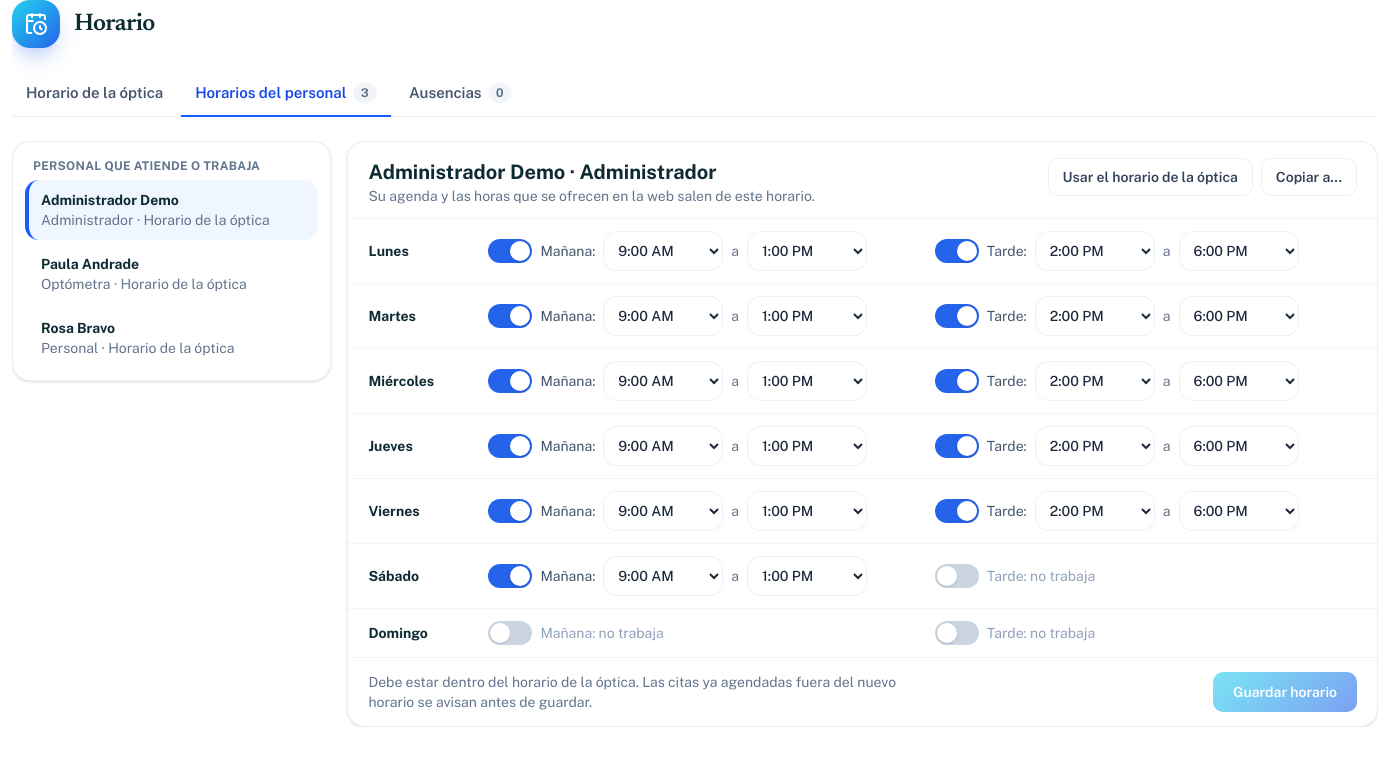
Scenario: Horario del administrador › Horarios del personal › guarda con la función de la base, confirma y le avisa a la agenda; «Usar el horario de la óptica» devuelve a quien lo tenía propio
Step 1. Click the text "Rosa Bravo" → coordinates (78, 328), box [41,320,115,336]
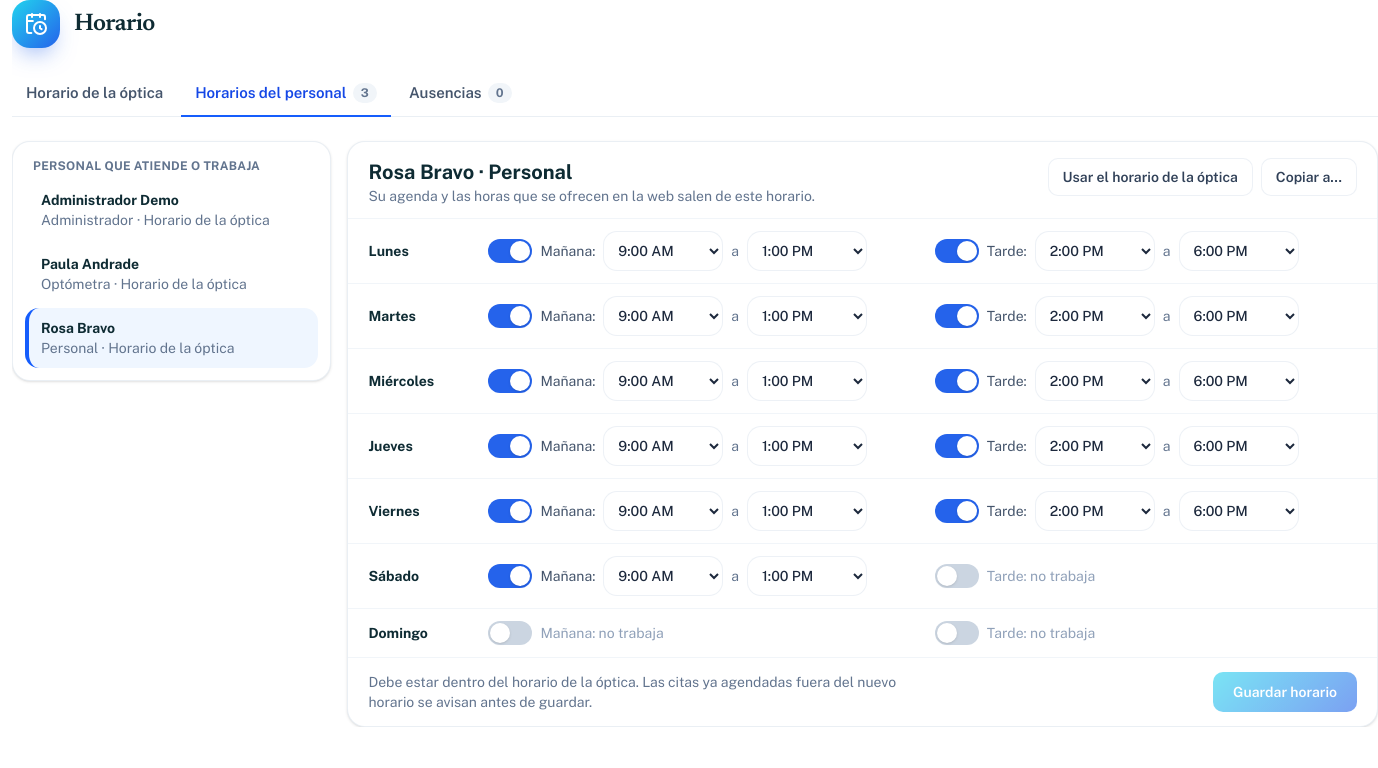
Now the element named "Horario de Rosa Bravo" is shown, box [348,140,1377,726]
Step 2. Click the switch named "Lunes: tarde" → coordinates (957, 250), box [935,238,979,262]
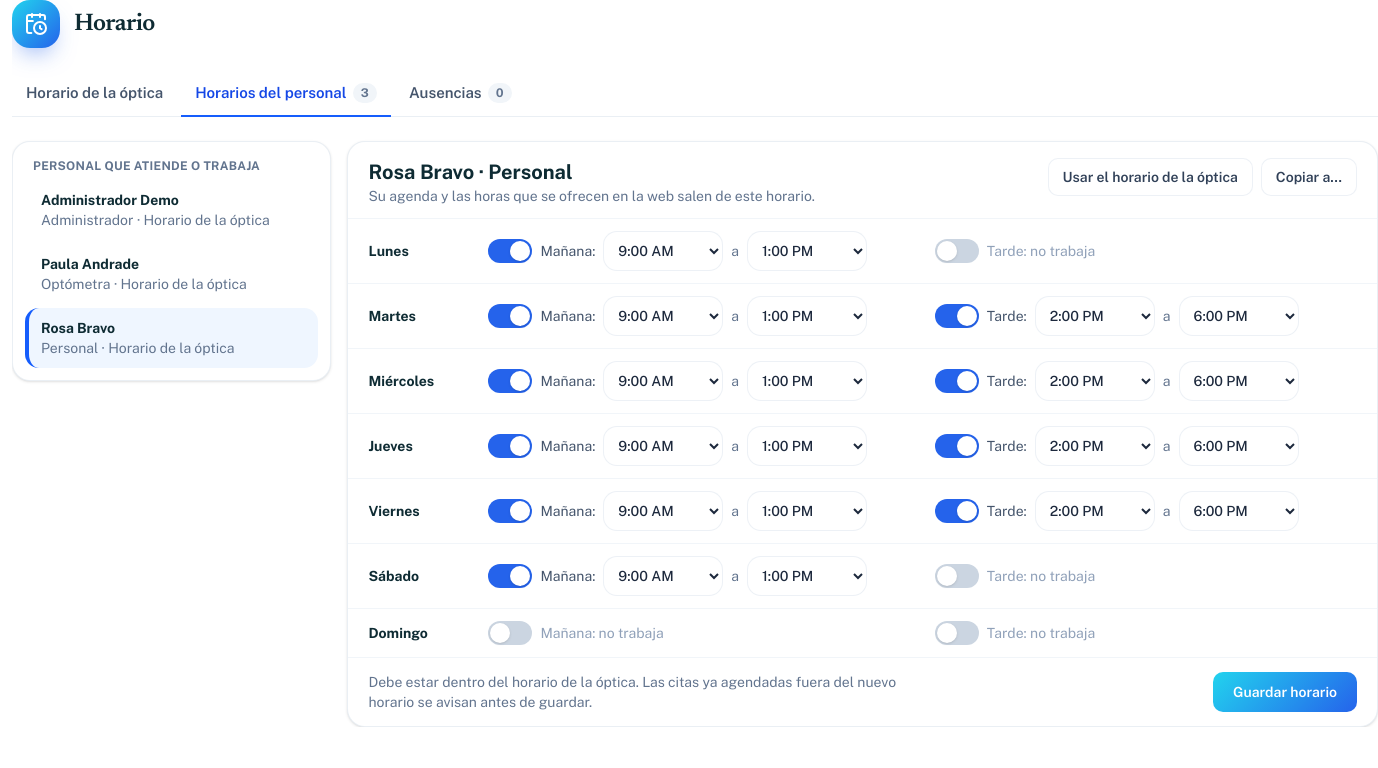
Step 3. Click the button "Guardar horario" → coordinates (1285, 692), box [1213,672,1357,712]
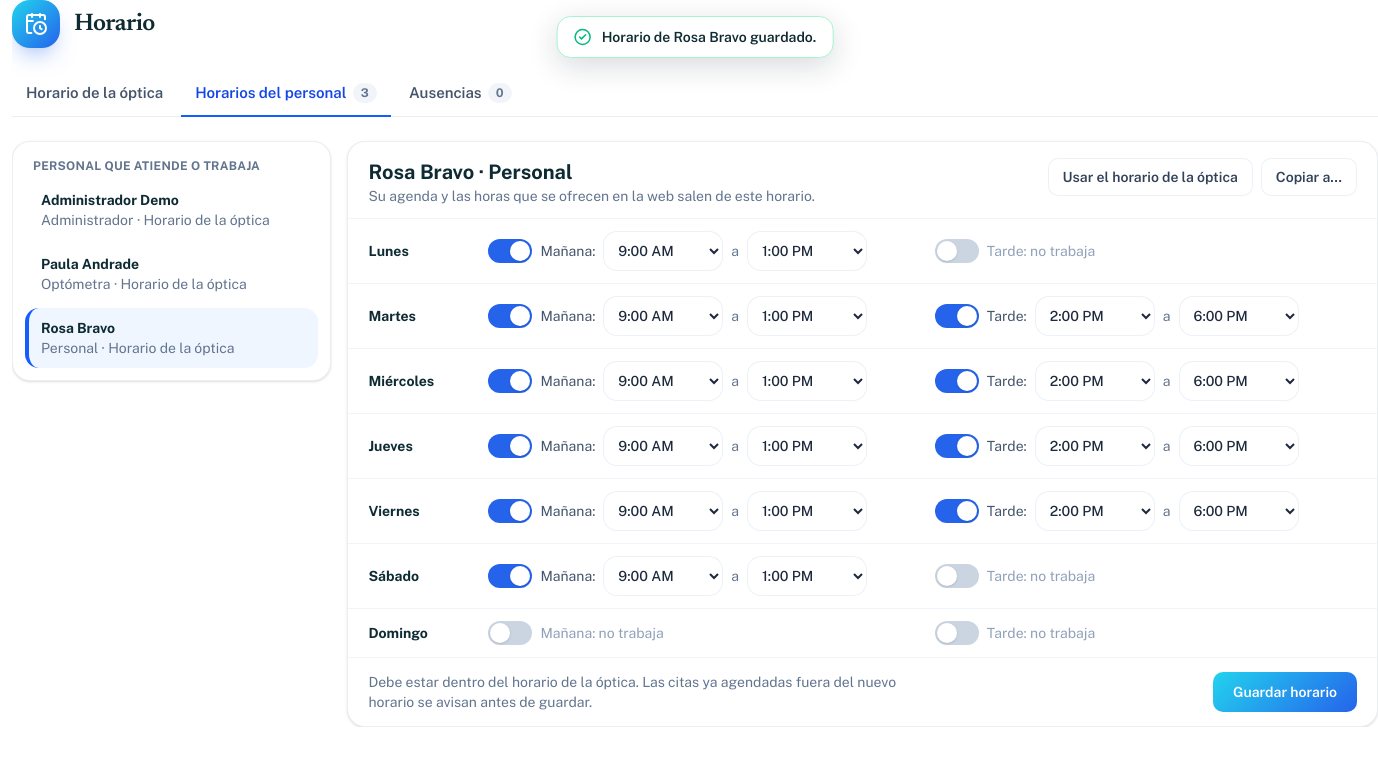
Now the text "Horario de Rosa Bravo guardado." is shown, box [602,27,816,47]
